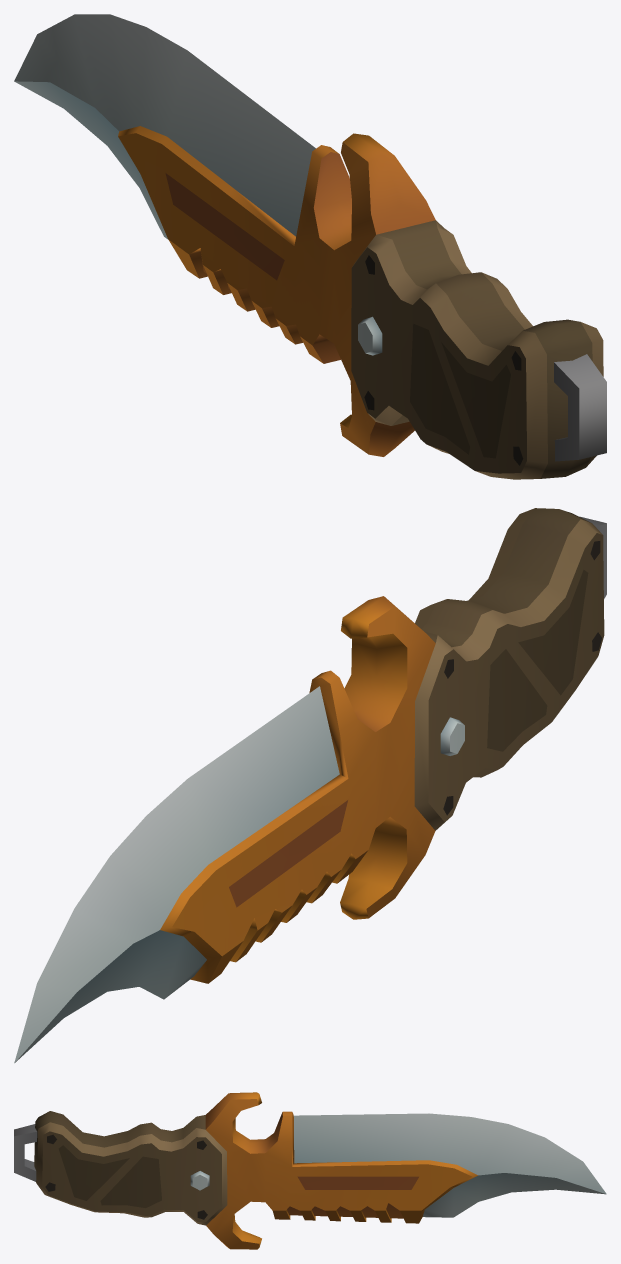
File: Melee_DesertKnife.fbx
The picture shows the model from 3 angles, top to bottom: view 1: azimuth 30°, elevation 25°; view 2: azimuth 150°, elevation 25°; view 3: azimuth 270°, elevation 25°; orthographic projection. The views are drawn at different scales.
Parts seen in each view (by area): view 1: Melee_DesertKnife; view 2: Melee_DesertKnife; view 3: Melee_DesertKnife.
Boxes of the visible parts, x1=… form: Melee_DesertKnife: x1=14, y1=14, x2=606, y2=479; Melee_DesertKnife: x1=14, y1=508, x2=606, y2=1063; Melee_DesertKnife: x1=14, y1=1092, x2=606, y2=1249.
Bounding box in the file's own units: 0.093 × 1.01 × 0.2916.
